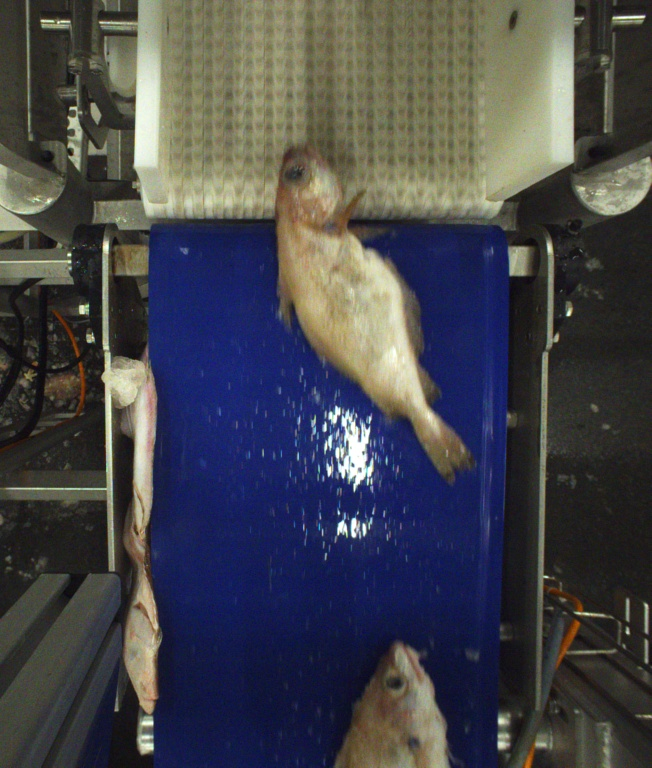BIB: (327, 637, 464, 768)
